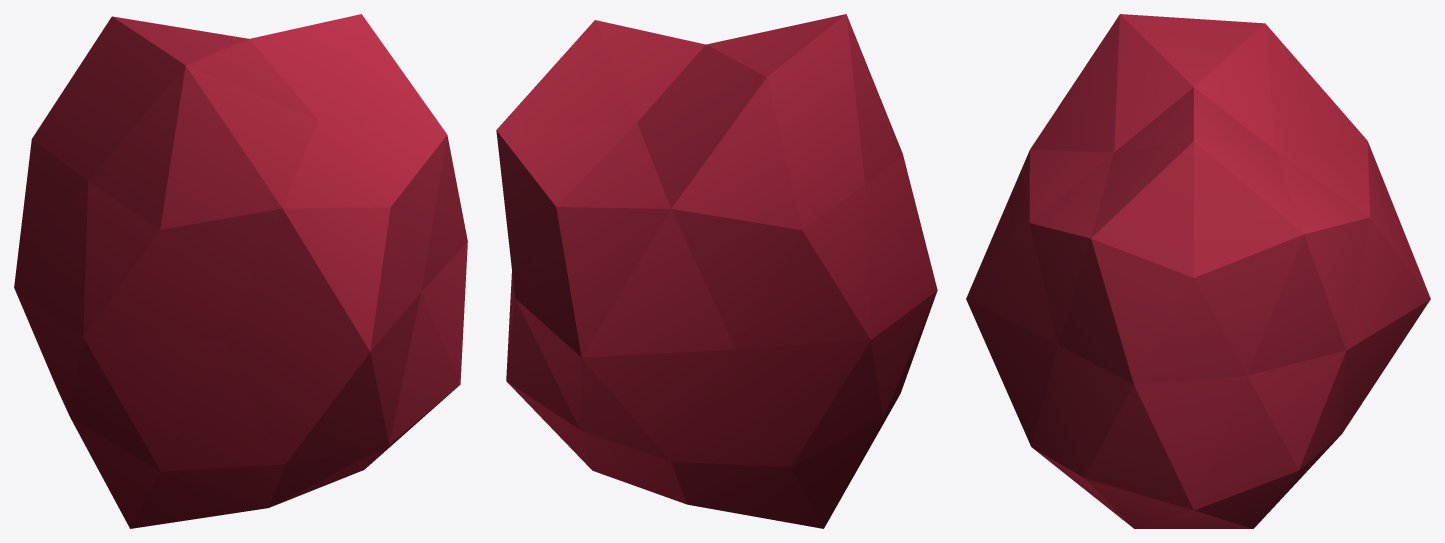
Rendered from raw_ruby.glb.
3 renders of one model, left to right at view 1: azimuth 30°, elevation 25°; view 2: azimuth 150°, elevation 25°; view 3: azimuth 270°, elevation 25°, orthographic. The views are drawn at different scales.
Visible parts, largest first — view 1: raw_ruby; view 2: raw_ruby; view 3: raw_ruby.
Boxes of the visible parts, bbox=[...] form: raw_ruby: bbox=[14, 14, 467, 528]; raw_ruby: bbox=[496, 14, 937, 528]; raw_ruby: bbox=[966, 14, 1430, 528].
Size of what is drawn, in the model's own units: 0.059 by 0.071 by 0.065.
